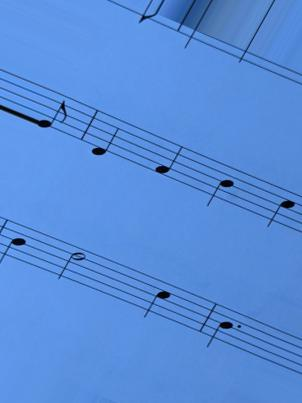B: (202, 293, 234, 359), (205, 152, 236, 217), (1, 216, 29, 273)
D: (89, 105, 121, 163)
F: (152, 127, 184, 188)
HC: (265, 175, 298, 239), (141, 270, 173, 326)
